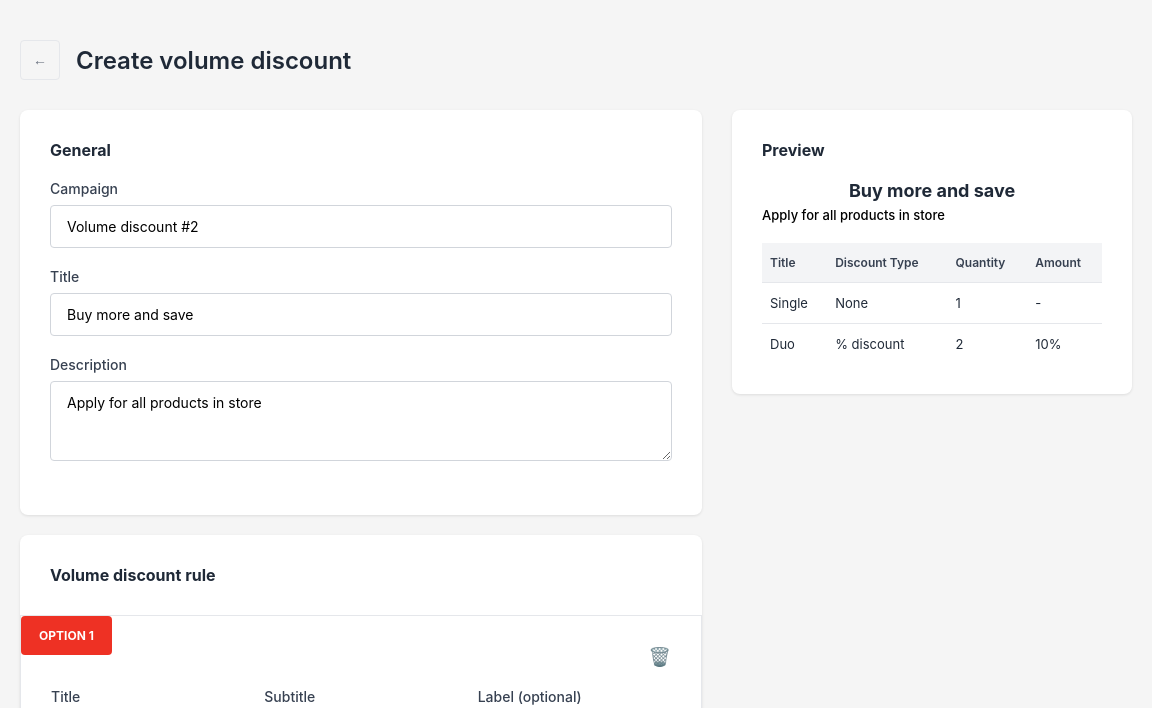
Test case: VolumeDiscountForm Component › Form Validation › shows error when campaign name is empty and form is submitted
Clear the field with placeholder "e.g., Volume discount #2" below "Campaign" at (361, 226), box [50, 205, 672, 248]
(page scrolled)
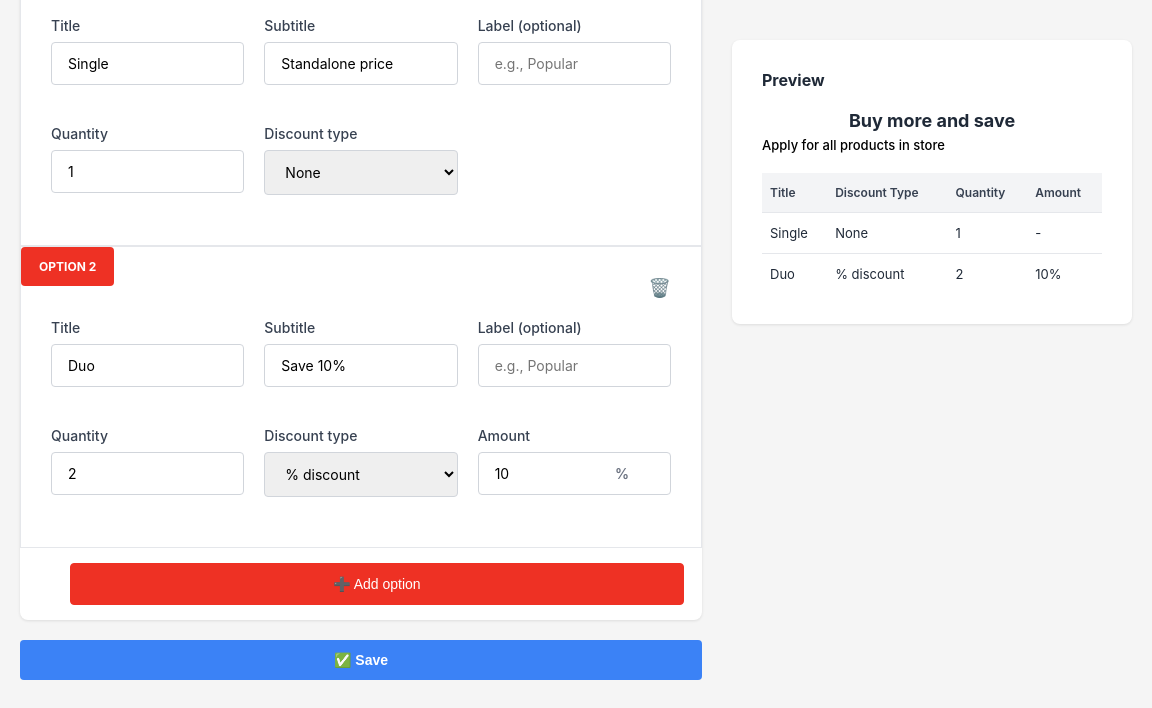
Click the button "✅ Save" at (361, 660), box [20, 640, 702, 680]
(page scrolled)
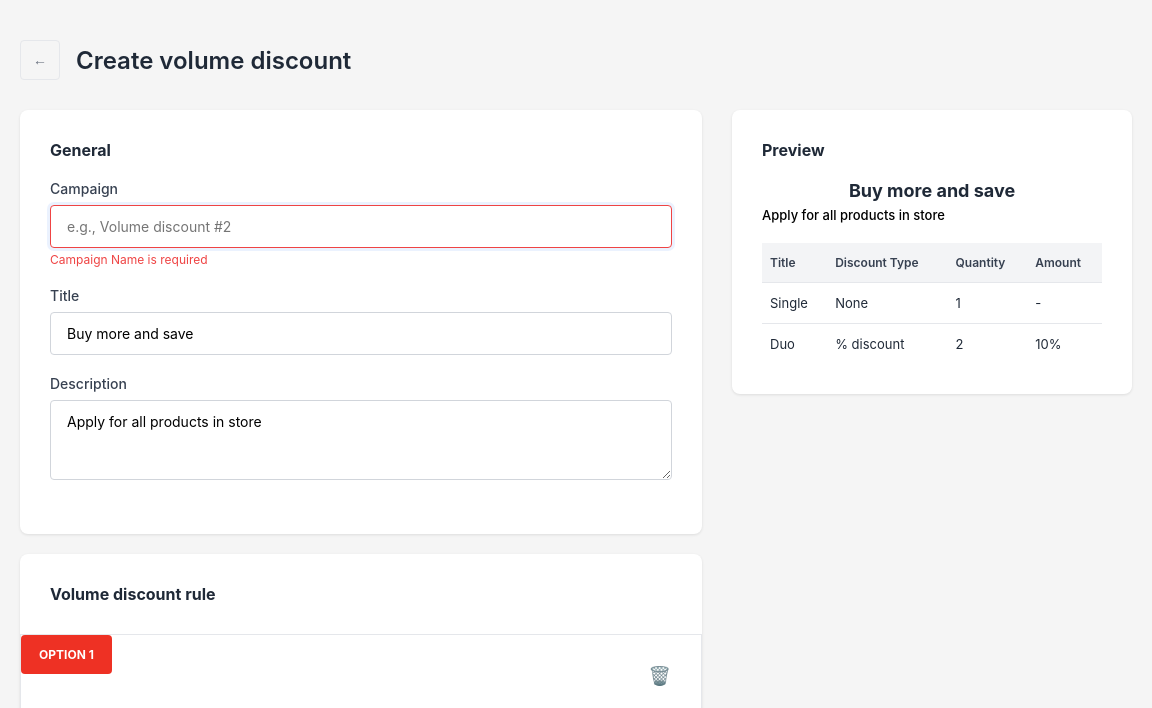
Now the text "Campaign Name is required" is shown, box [50, 252, 208, 267]
